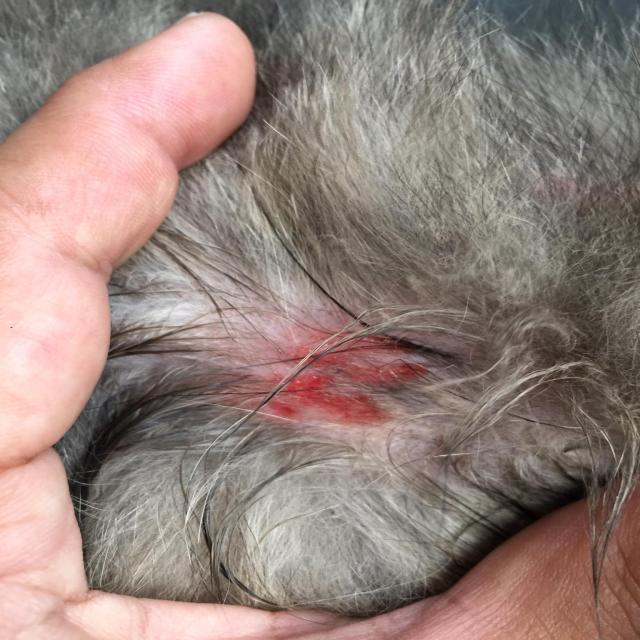hac lao: (181, 277, 490, 463)
